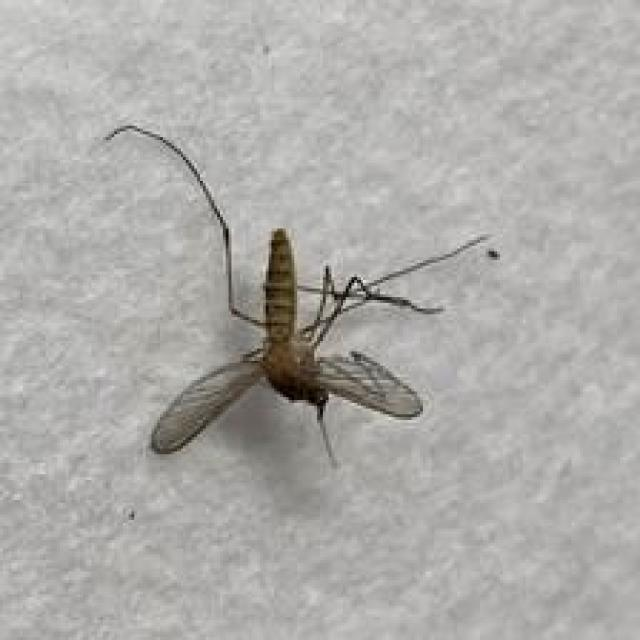Culex: (99, 121, 502, 470)
